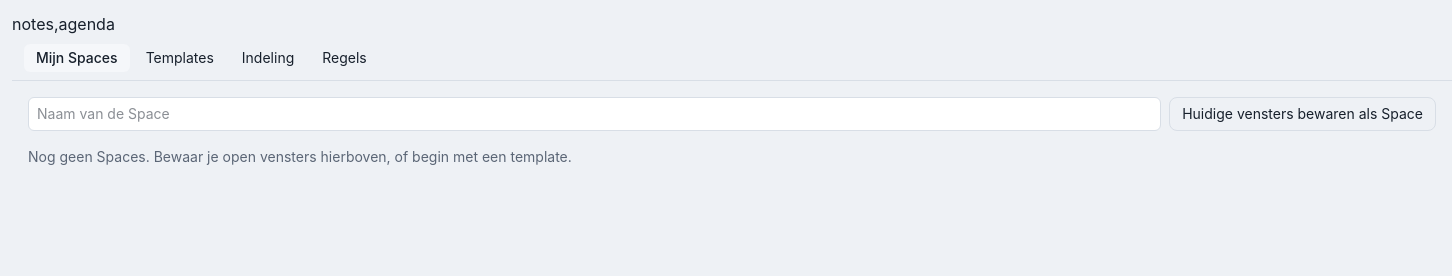
Test case: Spaces › saves the open windows as a Space and opens it again later
The width and height of the screenshot is (1452, 276).
In the field named "Naam van de nieuwe Space": [595, 114] box [28,97,1161,131], type "Blok"
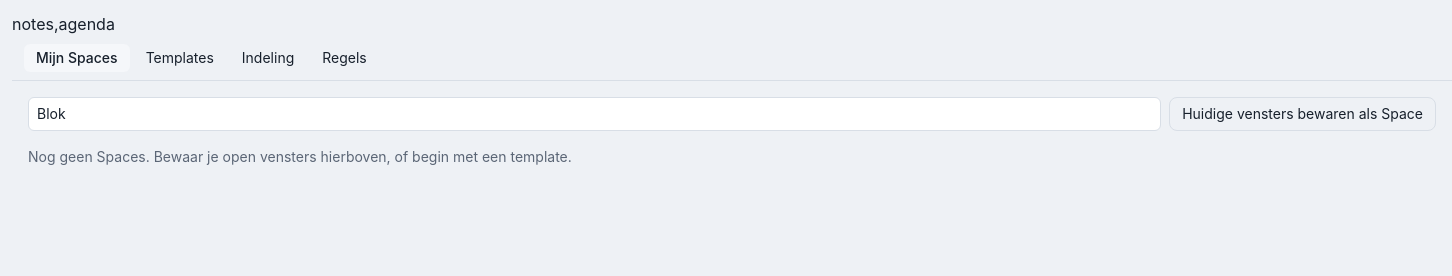
Click the button "Huidige vensters bewaren als Space": [1303, 114] box [1169,97,1436,131]
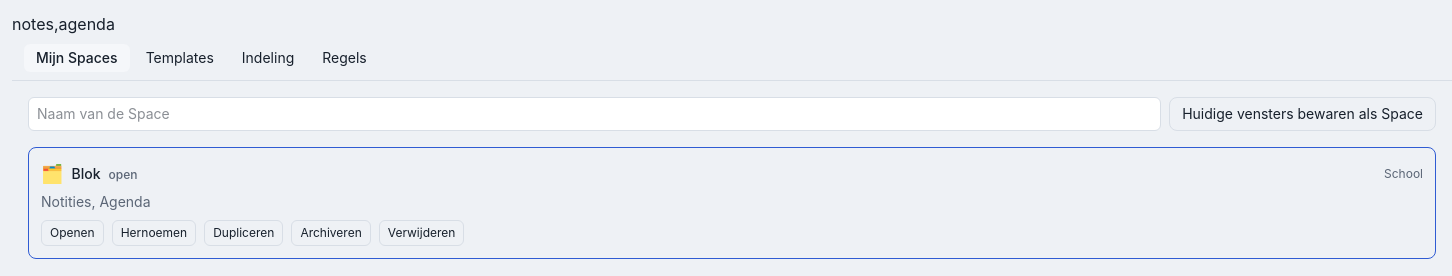
Now the text "Notities, Agenda" is shown, box [41,193,150,210]
